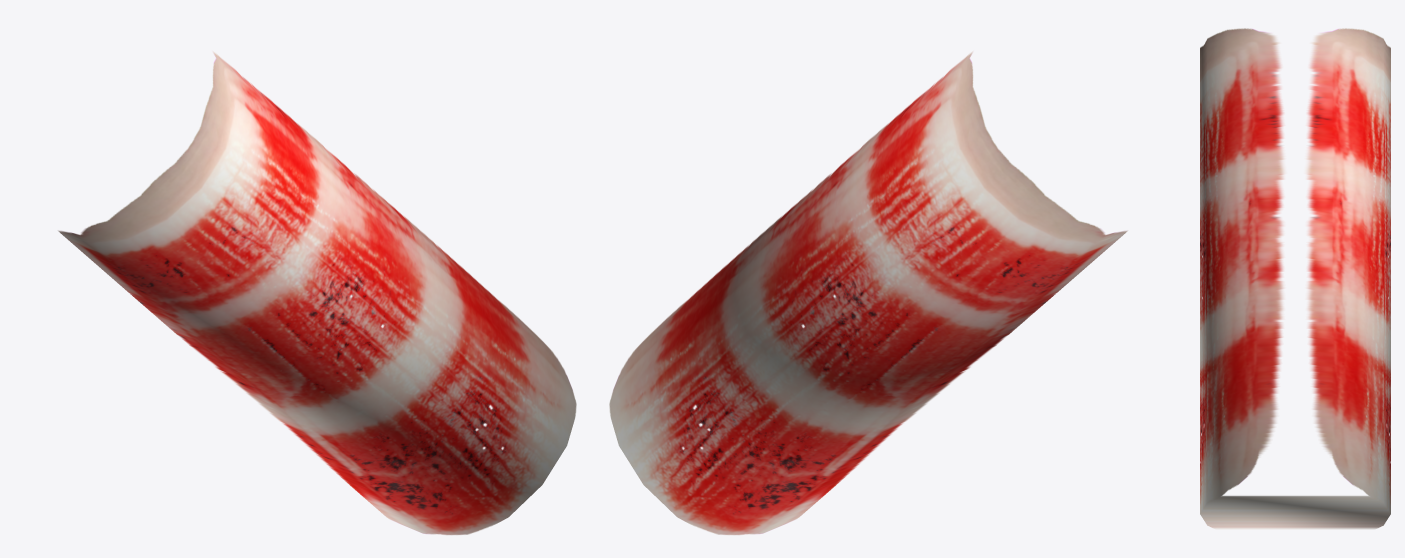
File: crab-stick.glb
3 views of the same model, side by side, from view 1: azimuth 30°, elevation 25°; view 2: azimuth 150°, elevation 25°; view 3: azimuth 270°, elevation 25° (orthographic). The views are drawn at different scales.
Parts seen in each view (by area): view 1: crab-stick; view 2: crab-stick; view 3: crab-stick.
Boxes of the visible parts, <box> form: crab-stick: <box>58,51,576,535</box>; crab-stick: <box>609,51,1127,535</box>; crab-stick: <box>1200,28,1390,529</box>.
Size of the model in its own units: 1.2 by 1.23 by 0.4786.
1 material, 1 textured.
